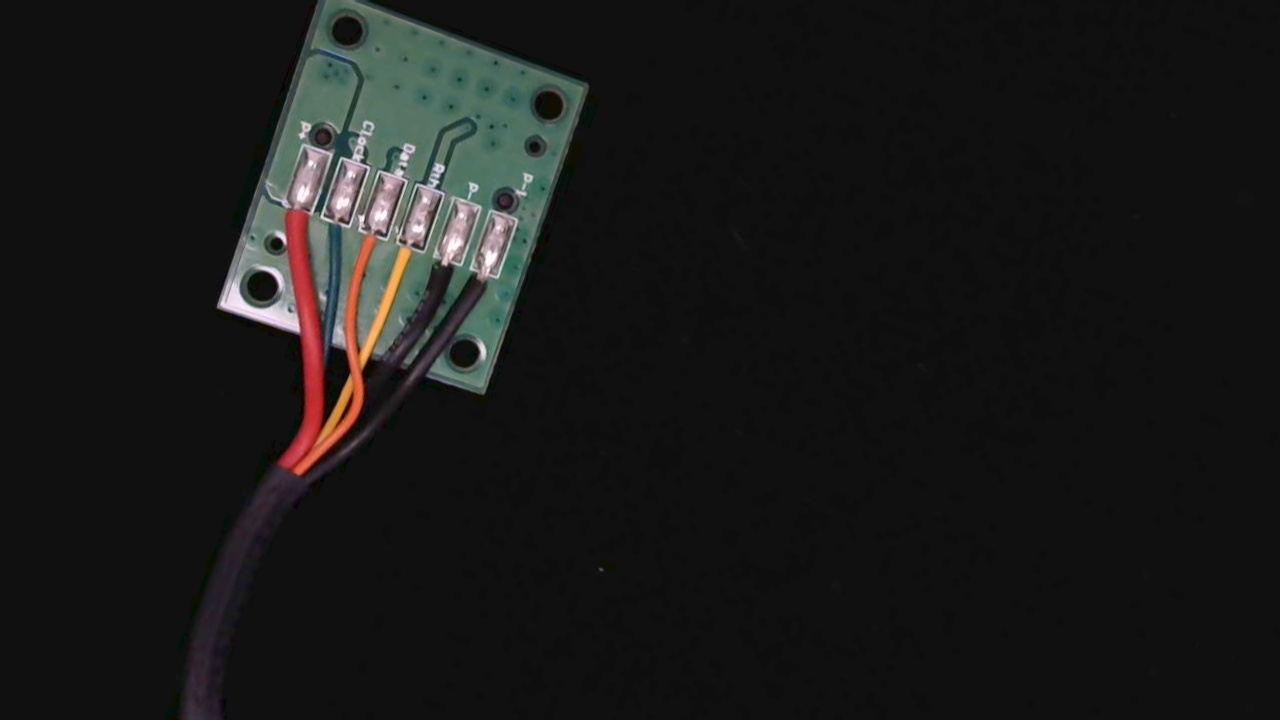Black: (412, 236, 469, 316)
Black1: (454, 249, 508, 323)
Green: (302, 196, 358, 273)
Orange: (339, 210, 394, 288)
Red: (263, 183, 319, 260)
Yellow: (375, 223, 432, 304)
